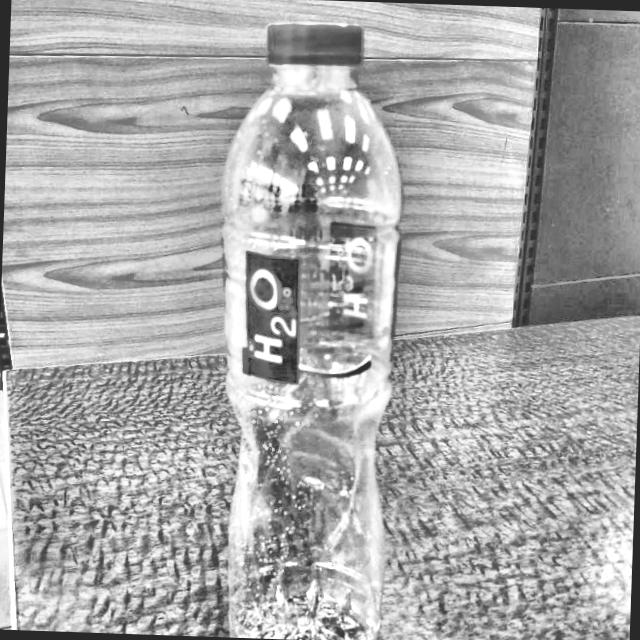waterbottle: (199, 8, 415, 640)
